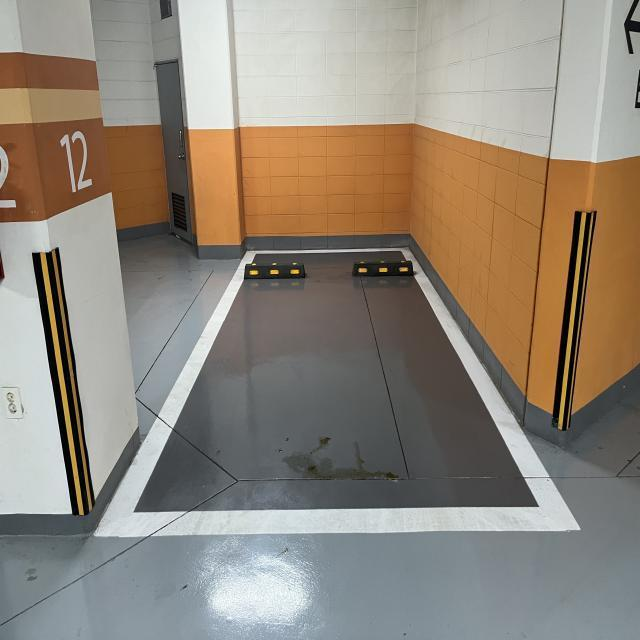Vacant: (207, 247, 470, 539)
